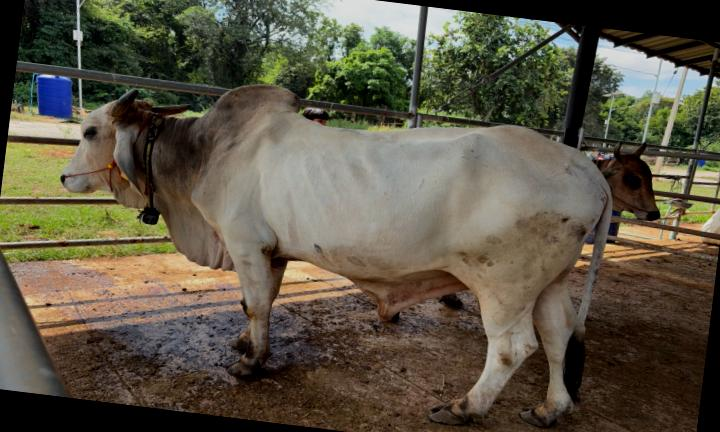Brahman: (62, 85, 612, 427)
